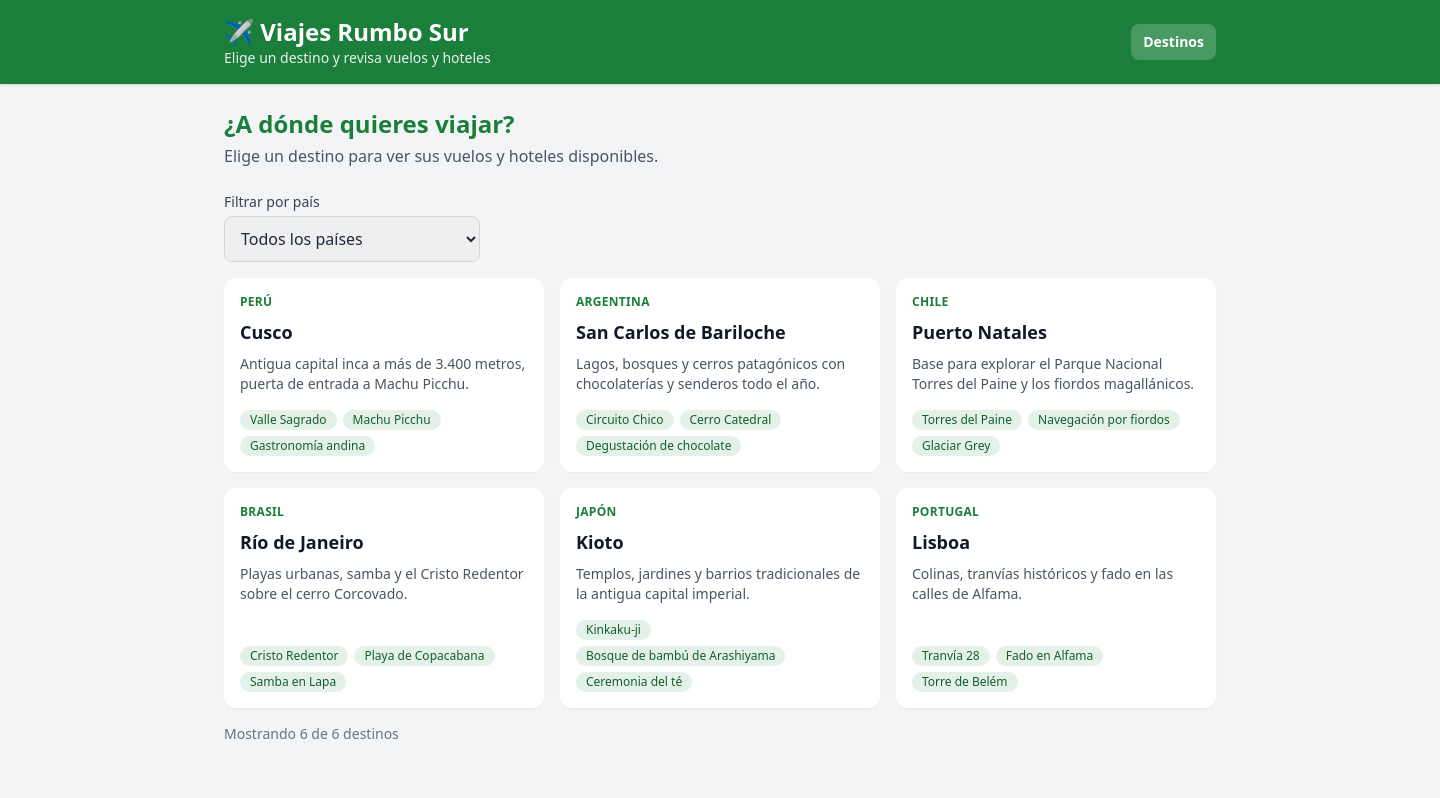
Test case: Navegación › desde el listado se abre un destino y el enlace de regreso vuelve al listado
This screenshot has width=1440, height=798.
Click the link "Lisboa" at (946, 512), box [896,488,1216,708]
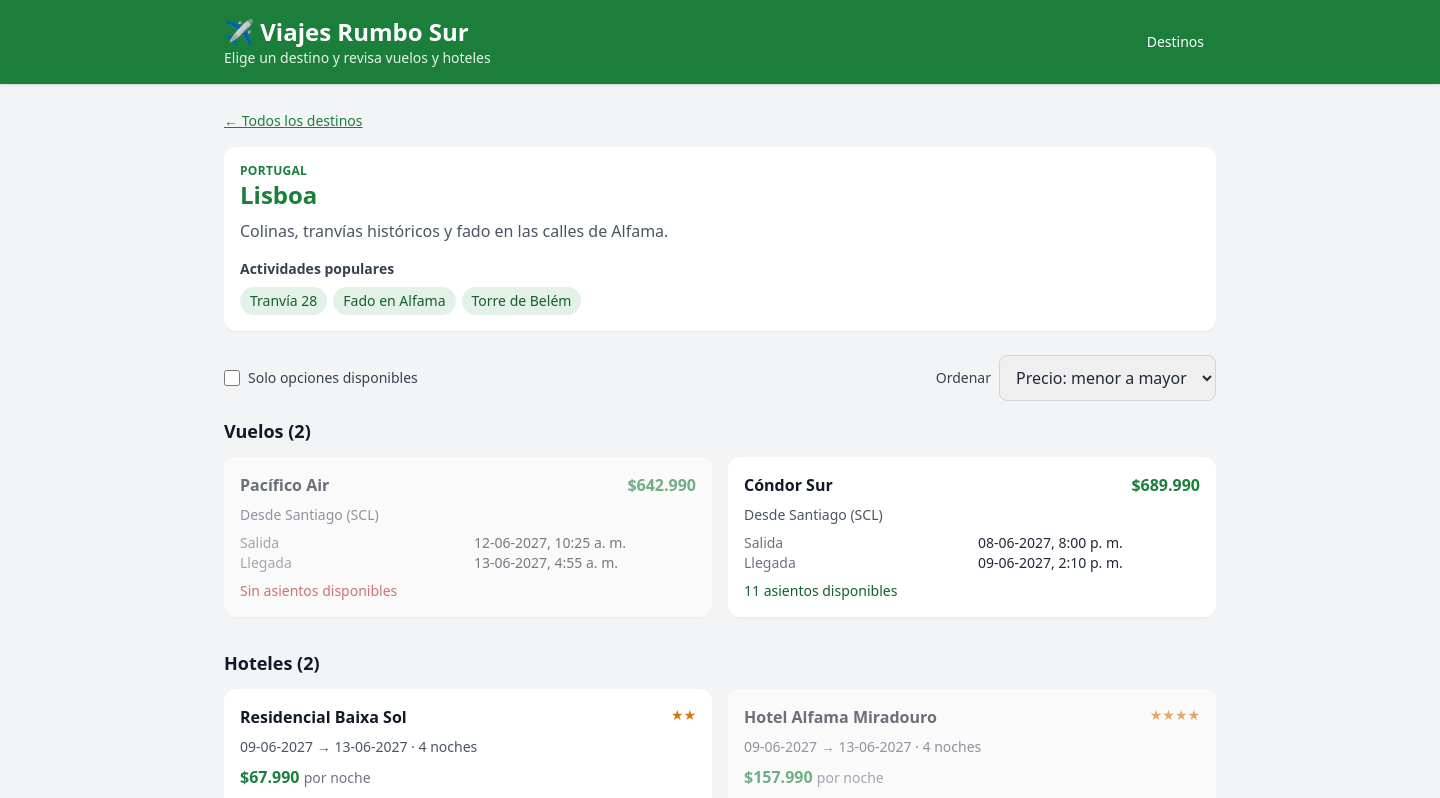
expect the heading "Lisboa" is shown: met, box [240,178,317,211]
Click the link "← Todos los destinos" at (293, 121), box [224,111,362,131]
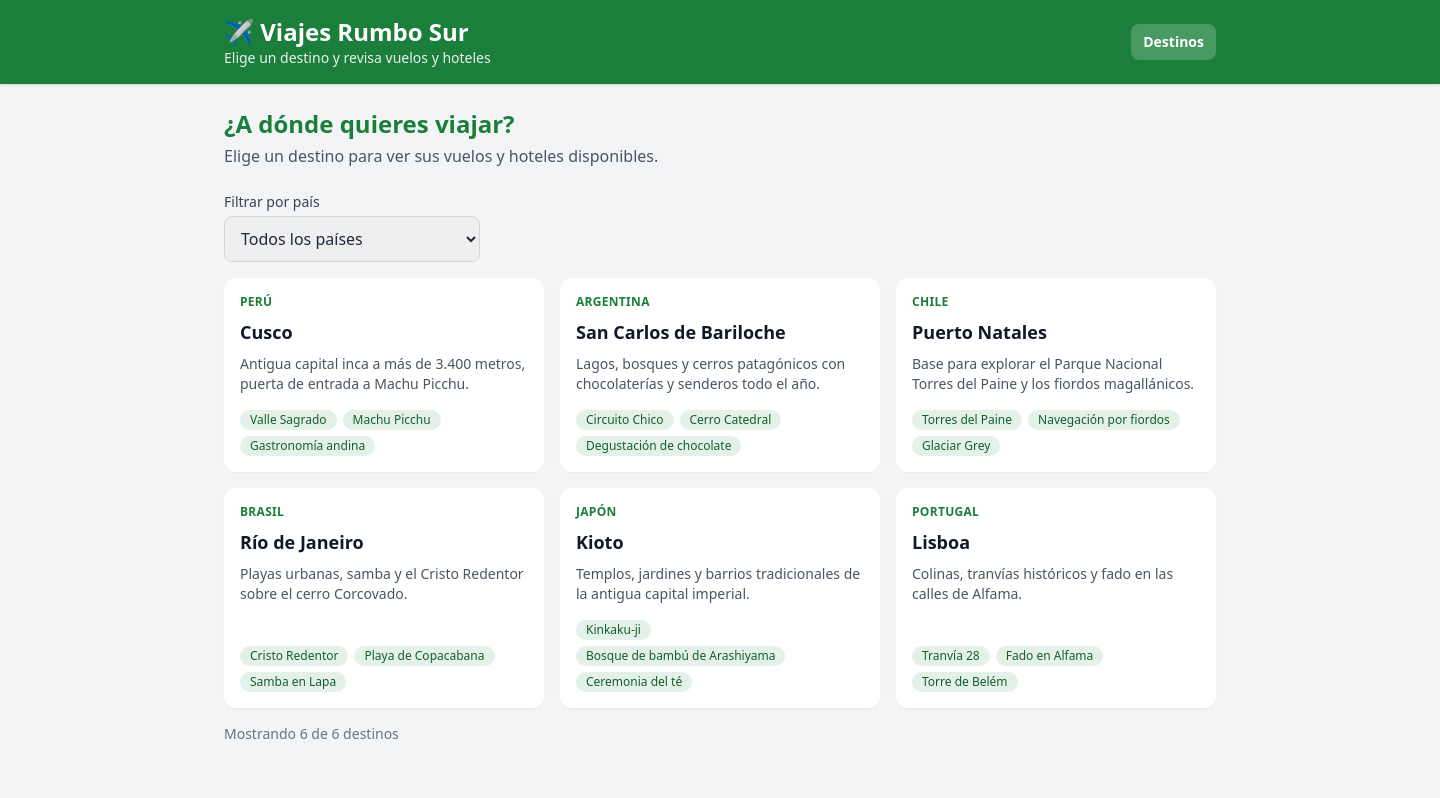
expect the heading "Kioto" is shown: met, box [576,530,624,554]
